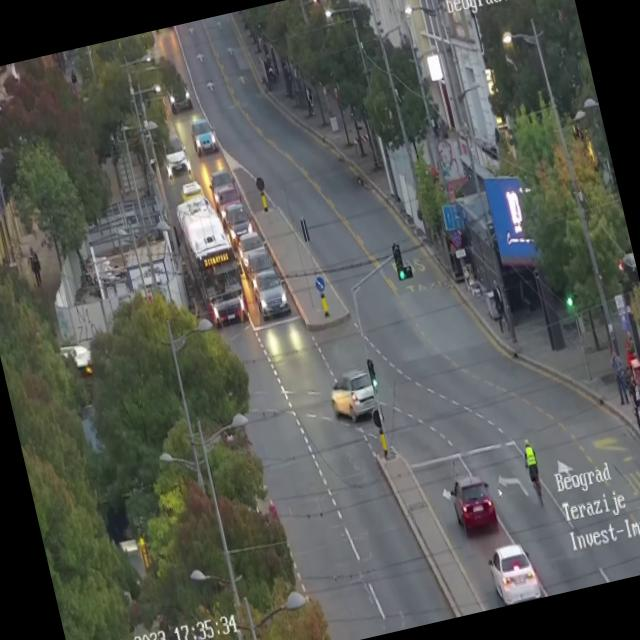bus: (172, 189, 250, 331)
car: (485, 540, 542, 606), (325, 365, 380, 426), (447, 472, 499, 536), (252, 271, 292, 319), (222, 200, 256, 248), (206, 166, 242, 211), (162, 131, 191, 175), (163, 74, 194, 114), (238, 232, 270, 270), (188, 118, 218, 156), (246, 248, 276, 282)
